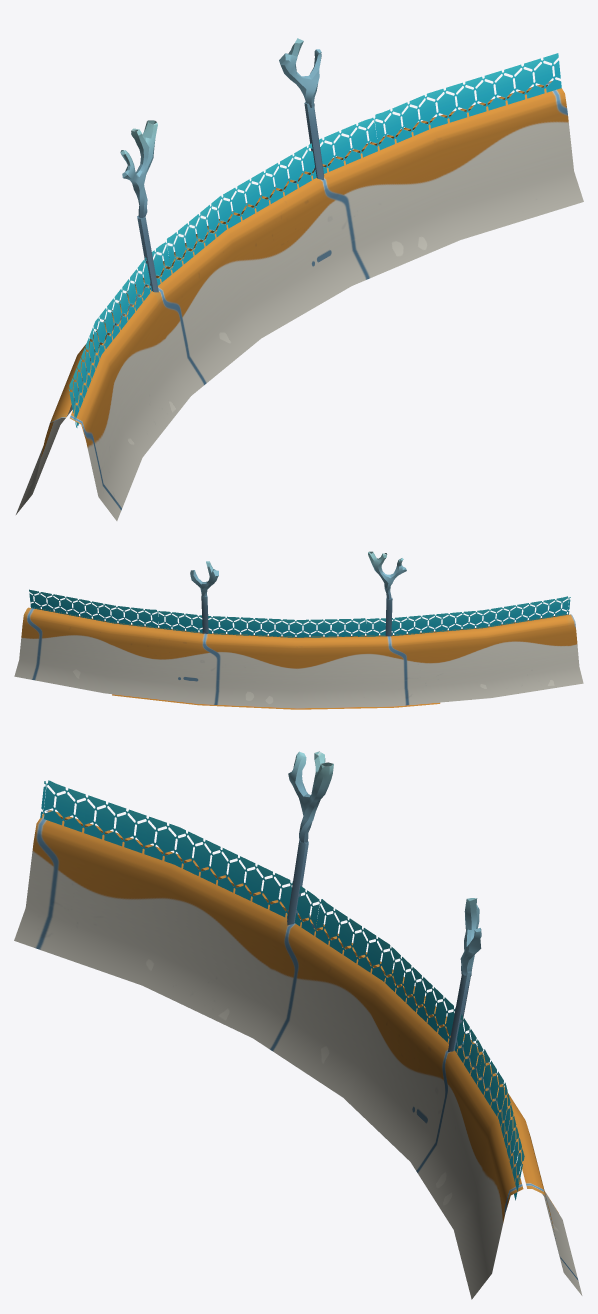
The model's file is mur_tp (1).fbx.
The picture shows the model from 3 angles, top to bottom: view 1: azimuth 30°, elevation 25°; view 2: azimuth 150°, elevation 25°; view 3: azimuth 270°, elevation 25°; orthographic projection. The views are drawn at different scales.
Parts seen in each view (by area): view 1: S_Wall_010; view 2: S_Wall_010; view 3: S_Wall_010.
Part boxes in pixels (<box>): S_Wall_010: <box>16,38,583,520</box>; S_Wall_010: <box>14,551,583,709</box>; S_Wall_010: <box>14,751,582,1299</box>.
Bounding box in the file's own units: 971 × 314 × 588.
1 material, 1 textured.
